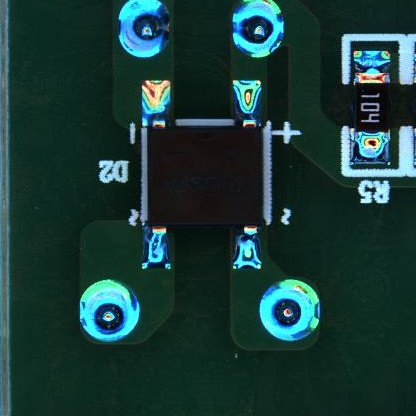spot: (77, 278, 139, 342), (259, 279, 320, 342), (230, 1, 286, 59), (116, 1, 172, 58)
